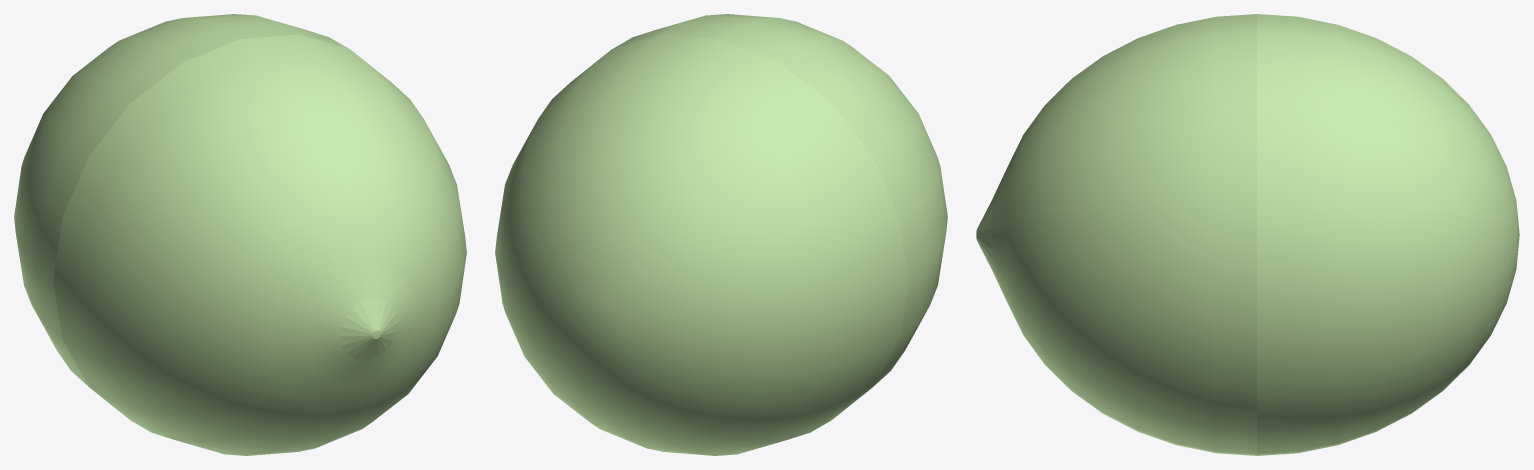
File: coconut.fbx
3 views of the same model, side by side, from view 1: azimuth 30°, elevation 25°; view 2: azimuth 150°, elevation 25°; view 3: azimuth 270°, elevation 25° (orthographic). The views are drawn at different scales.
Parts seen in each view (by area): view 1: polySurface1; view 2: polySurface1; view 3: polySurface1.
Boxes of the visible parts, x1,y1,x2,y2 form: polySurface1: (14,14,466,455); polySurface1: (495,14,947,455); polySurface1: (976,14,1519,455).
Size of the model in its own units: 2.68 by 2.68 by 3.26.
